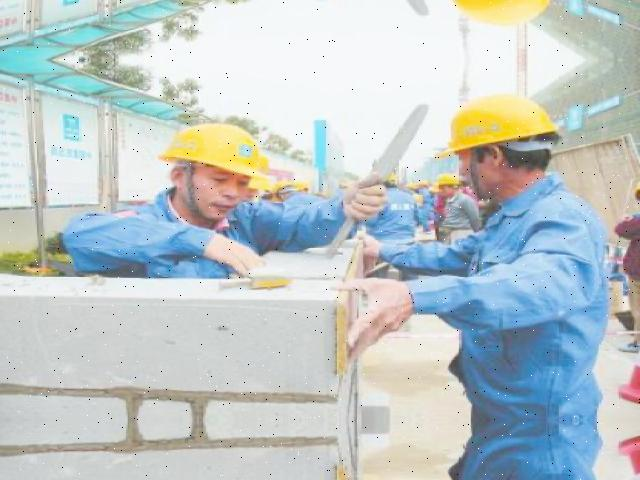Helmet: (436, 88, 570, 164), (157, 116, 276, 188)
